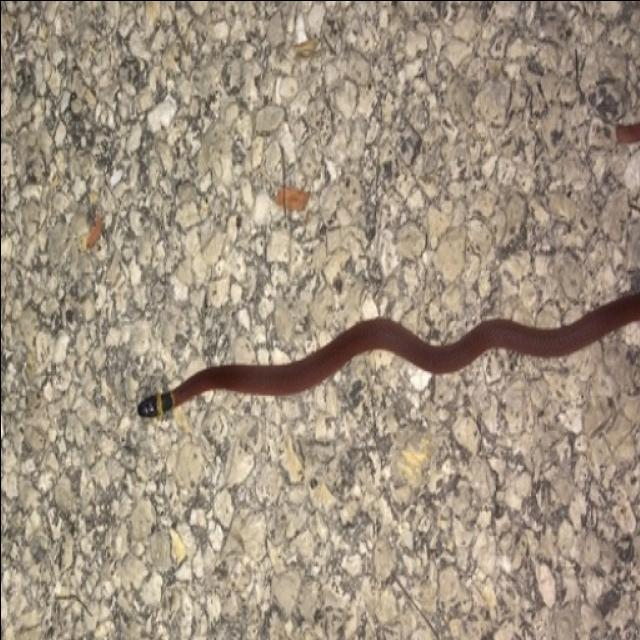snake: (128, 276, 640, 442)
